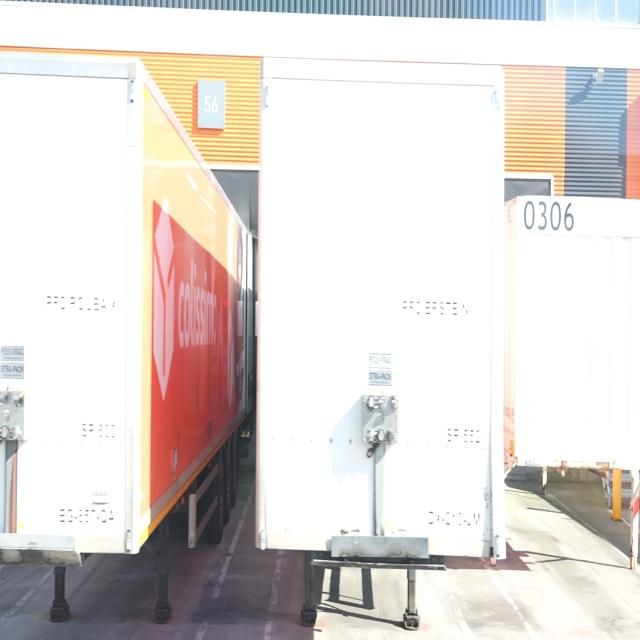Code: (523, 194, 578, 238)
